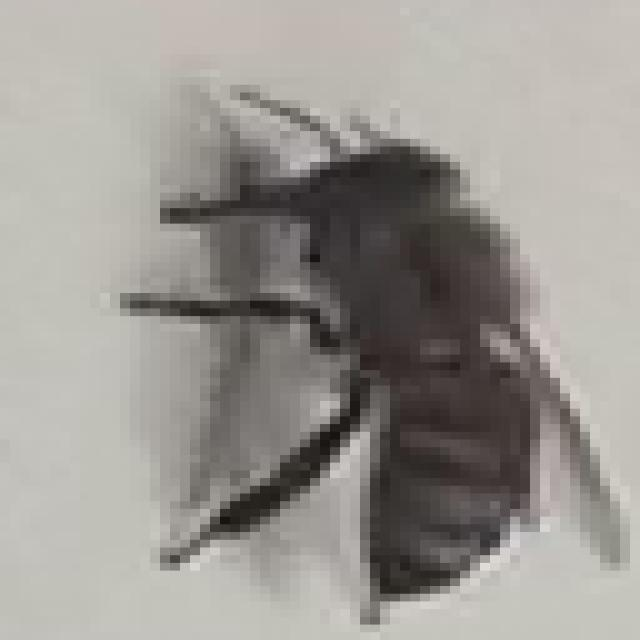honeybee: (120, 74, 626, 639)
